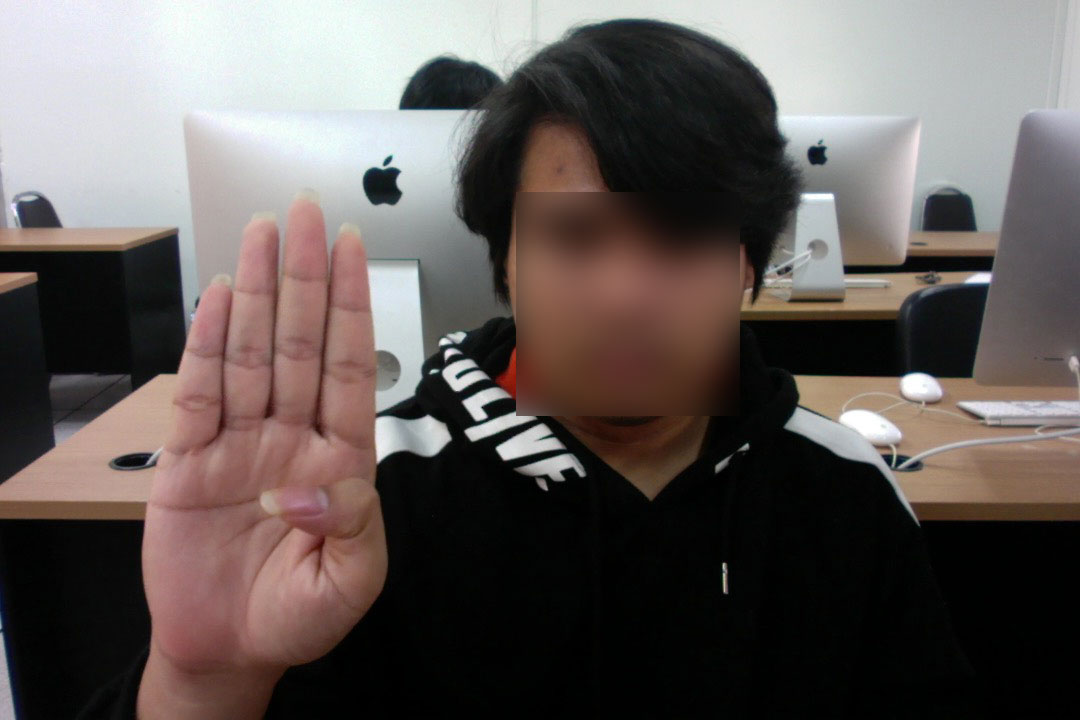bor: (127, 190, 396, 710)
